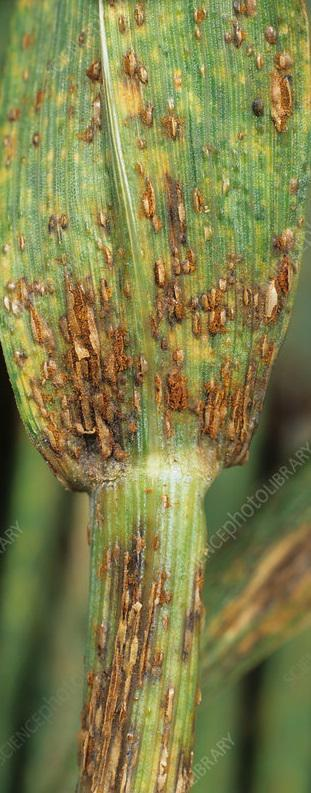Wheat: (10, 15, 301, 233), (11, 247, 289, 460), (90, 494, 193, 772)
